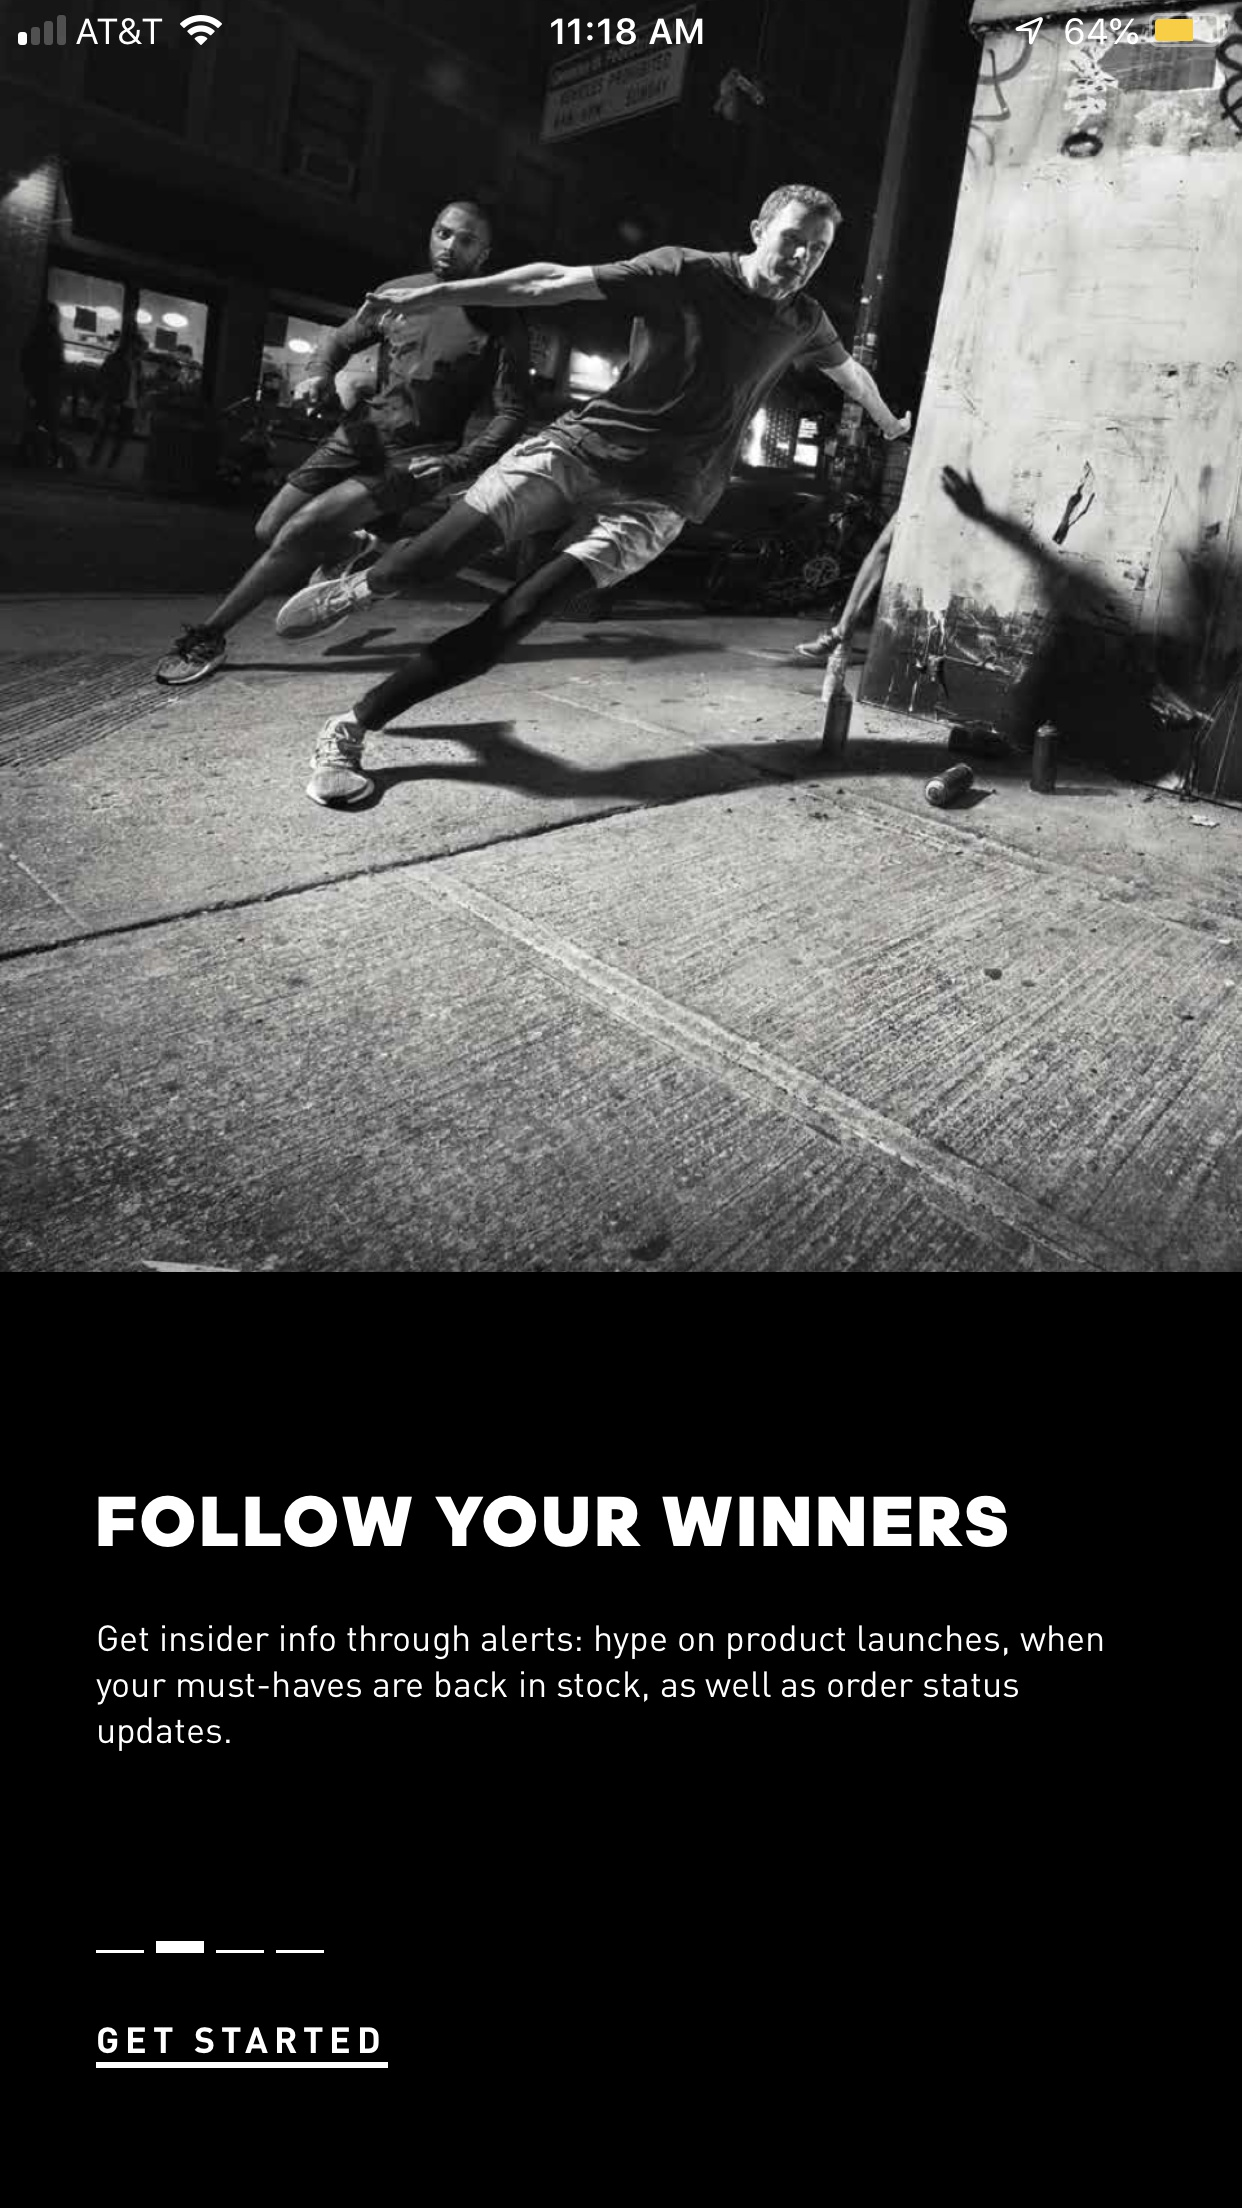Image: (2, 2, 1242, 1272)
PageIndicator: (96, 1940, 325, 1955)
Text: (96, 1624, 1102, 1752), (99, 1495, 1008, 1548), (96, 2026, 390, 2068)
UpperTaskBar: (2, 2, 1242, 49)
